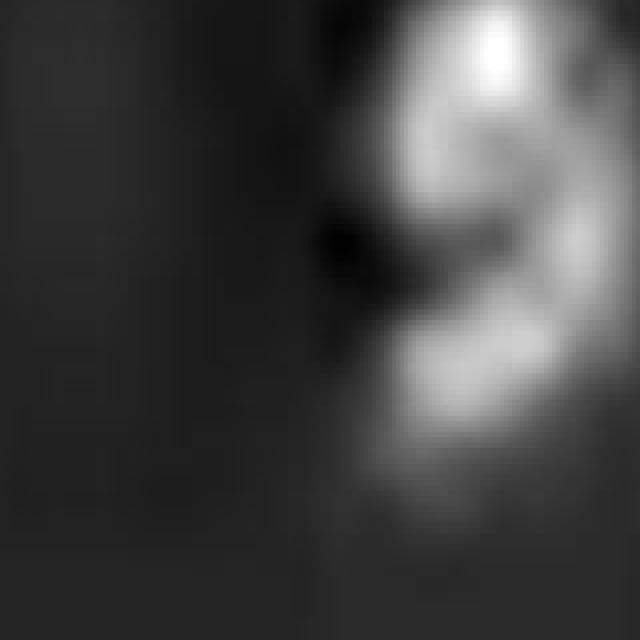person: (329, 1, 640, 502)
